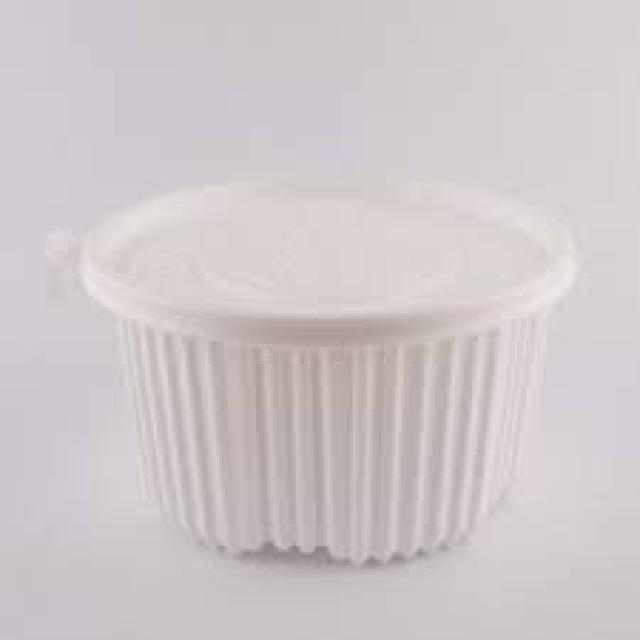disposable: (70, 169, 590, 571)
